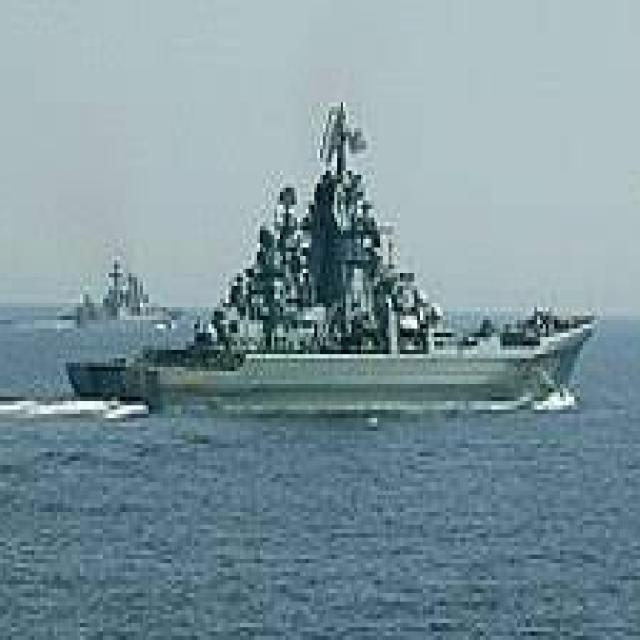navalvessels: (67, 113, 598, 438), (65, 259, 174, 330)
